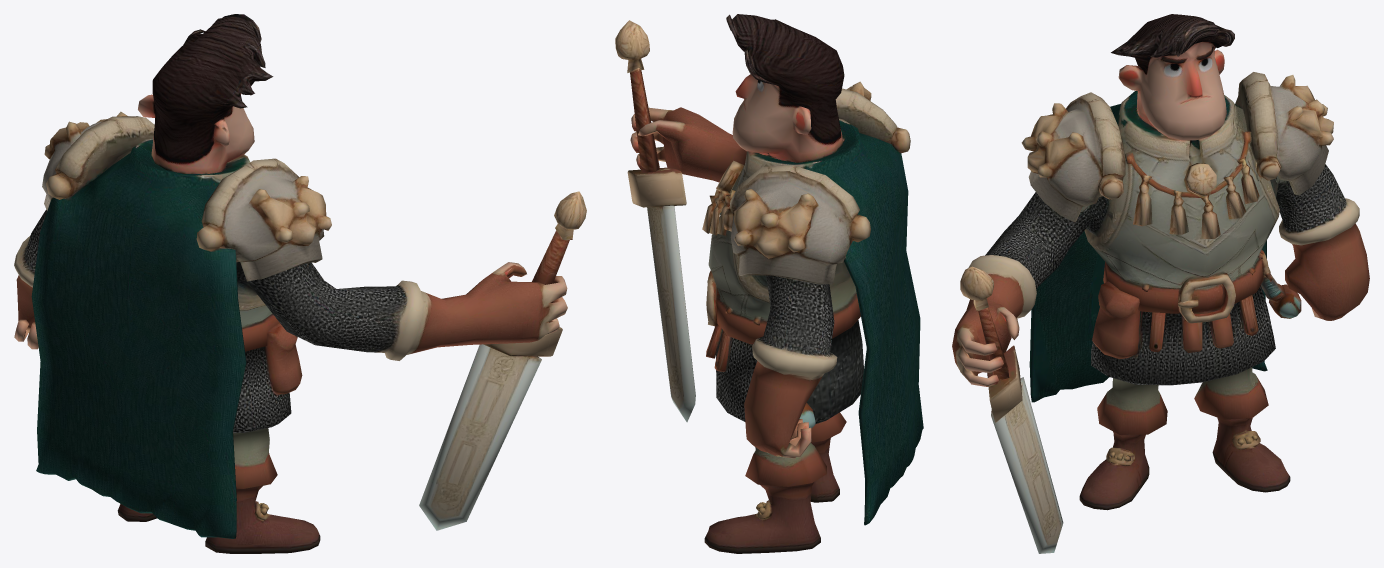
Rendered from perso.glb.
The picture shows the model from 3 angles, left to right: view 1: azimuth 30°, elevation 25°; view 2: azimuth 150°, elevation 25°; view 3: azimuth 270°, elevation 25°; orthographic projection. The views are drawn at different scales.
Parts seen in each view (by area): view 1: tripo_node_f87efbe3-8eeb-4103-a6d9-05eeb60b2ab8; view 2: tripo_node_f87efbe3-8eeb-4103-a6d9-05eeb60b2ab8; view 3: tripo_node_f87efbe3-8eeb-4103-a6d9-05eeb60b2ab8.
Part boxes in pixels (x1,y1,x2,y2): tripo_node_f87efbe3-8eeb-4103-a6d9-05eeb60b2ab8: (14, 14, 586, 553); tripo_node_f87efbe3-8eeb-4103-a6d9-05eeb60b2ab8: (615, 14, 923, 553); tripo_node_f87efbe3-8eeb-4103-a6d9-05eeb60b2ab8: (952, 14, 1369, 553).
Size of the model in its own units: 0.8574 by 0.998 by 0.7988.
1 material, 1 textured.
